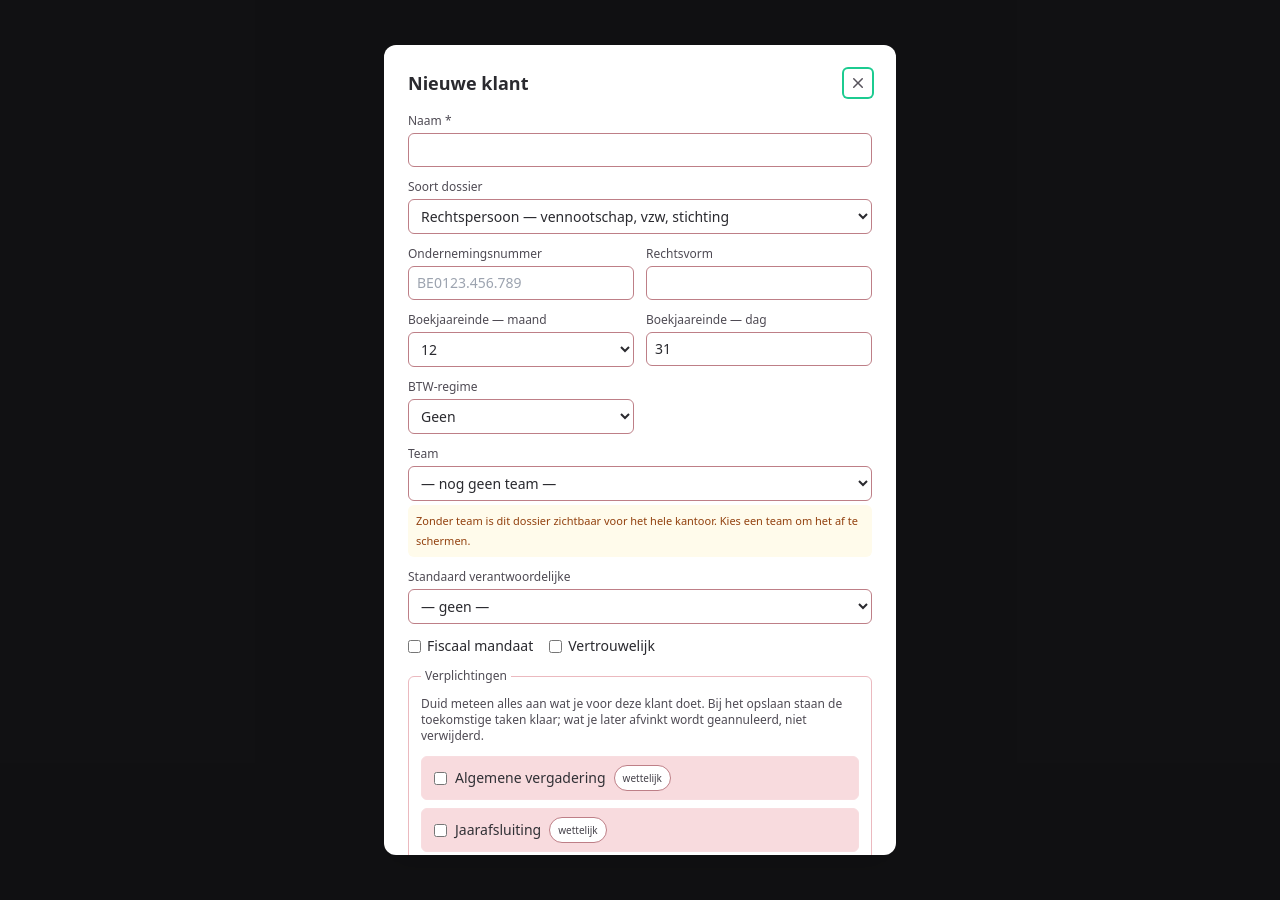
Test: ClientFormModal — vertrouwelijk ⇒ verplichte standaard verantwoordelijke (§7 decision 4) › shows an explanatory note once vertrouwelijk is checked
Expected: the text "enkel zichtbaar voor de kantoorbeheerder" is not shown
What coordinates should you click on to do the following:
click the checkbox labelled "Vertrouwelijk"
I would click on:
 (556, 646)
Its box is [549,640,562,652].
(page scrolled)
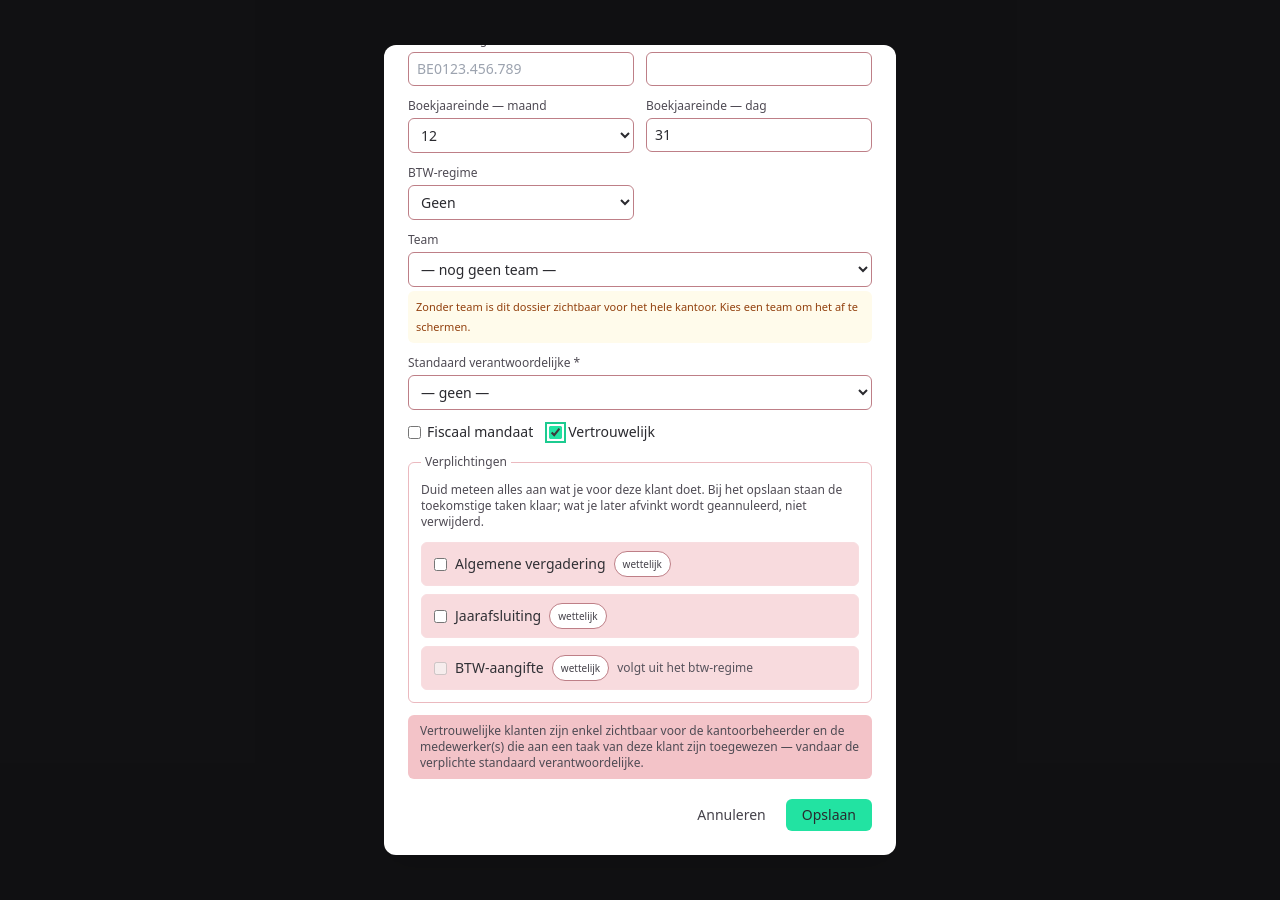
Expected: the text "enkel zichtbaar voor de kantoorbeheerder" is shown, [420,722,859,771]
